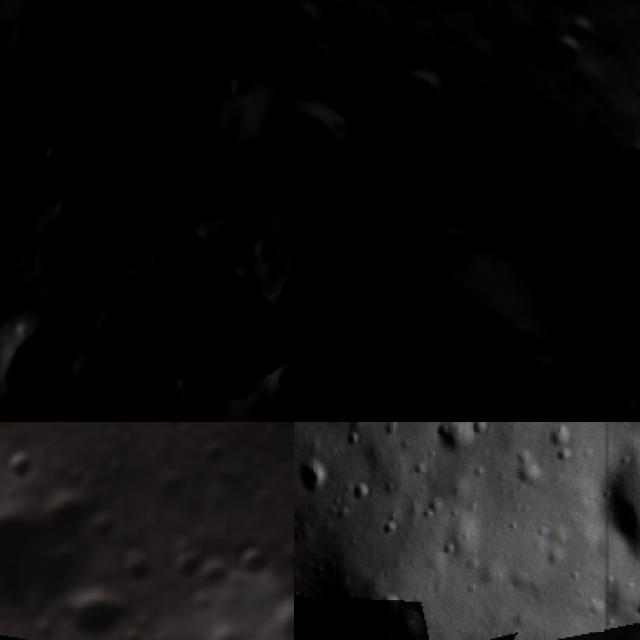crater: (354, 231, 586, 422), (510, 68, 640, 307), (0, 439, 132, 640), (294, 54, 384, 200), (372, 35, 483, 148), (563, 244, 640, 389), (0, 307, 84, 422), (225, 66, 294, 199), (168, 209, 246, 289), (51, 572, 137, 640), (121, 169, 205, 231), (536, 20, 604, 89), (555, 0, 626, 61), (85, 292, 138, 351), (224, 535, 277, 587), (208, 355, 254, 414), (162, 538, 213, 589), (261, 349, 294, 422), (269, 434, 294, 525), (79, 503, 127, 550), (117, 546, 165, 593), (294, 0, 338, 51), (0, 437, 42, 490), (144, 461, 190, 506), (167, 360, 205, 412), (142, 85, 184, 132), (253, 592, 294, 640), (192, 29, 232, 77), (194, 430, 236, 472), (37, 139, 72, 185), (195, 554, 234, 594), (180, 583, 220, 621), (389, 605, 431, 640), (196, 617, 252, 640), (298, 462, 332, 498), (514, 450, 547, 484), (550, 425, 577, 459), (112, 619, 155, 640), (341, 422, 361, 452), (349, 481, 373, 503), (470, 422, 490, 439)
